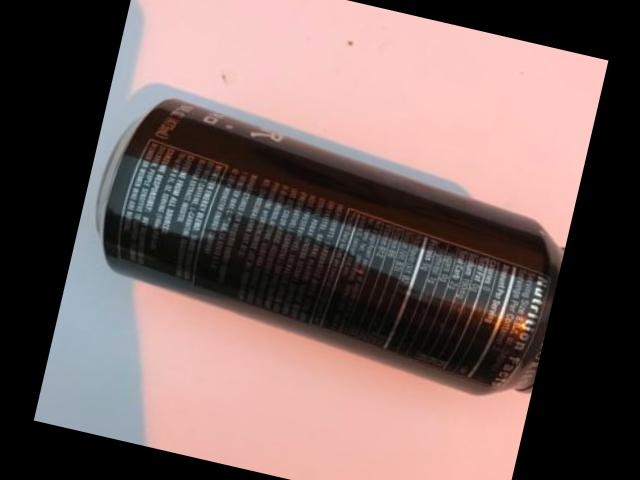metal: (100, 98, 564, 392)
